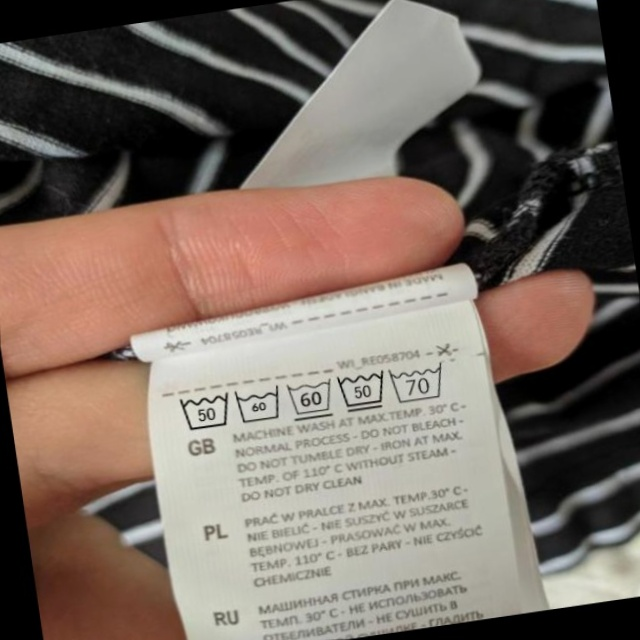50C: (178, 385, 236, 436), (337, 367, 392, 415)
60C: (285, 376, 339, 422), (233, 383, 287, 426)
70C: (388, 359, 451, 409)
